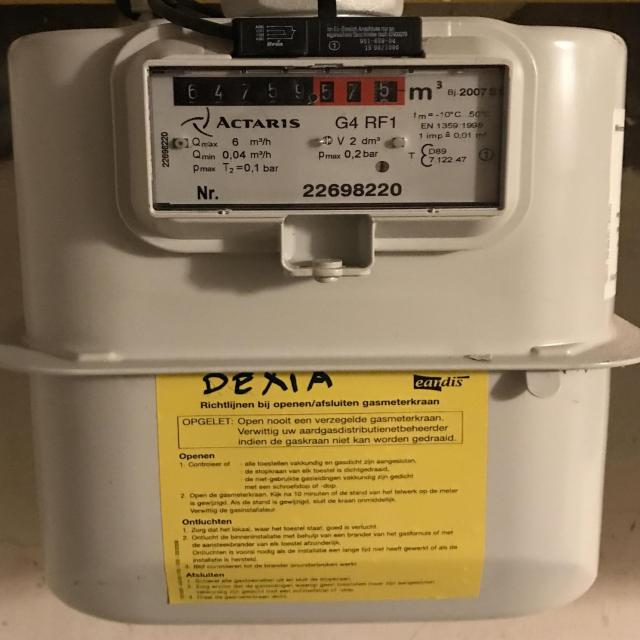gaz_meter: (149, 68, 513, 208)
indication: (171, 74, 406, 105)
